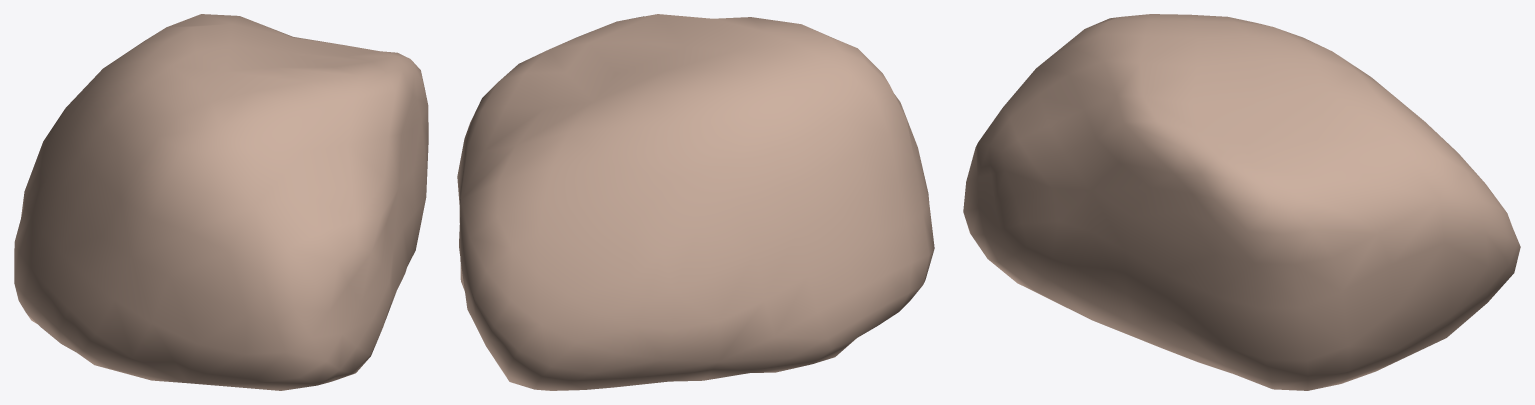
File: object_GEO-pebble.glb
3 views of the same model, side by side, from view 1: azimuth 30°, elevation 25°; view 2: azimuth 150°, elevation 25°; view 3: azimuth 270°, elevation 25° (orthographic). The views are drawn at different scales.
Parts seen in each view (by area): view 1: GEO-pebble; view 2: GEO-pebble; view 3: GEO-pebble.
Boxes of the visible parts, left/top/right/bottom form: GEO-pebble: left=14, top=14, right=428, bottom=390; GEO-pebble: left=457, top=14, right=934, bottom=390; GEO-pebble: left=963, top=14, right=1520, bottom=390.
Bounding box in the file's own units: 0.0991 × 0.0717 × 0.1259.
